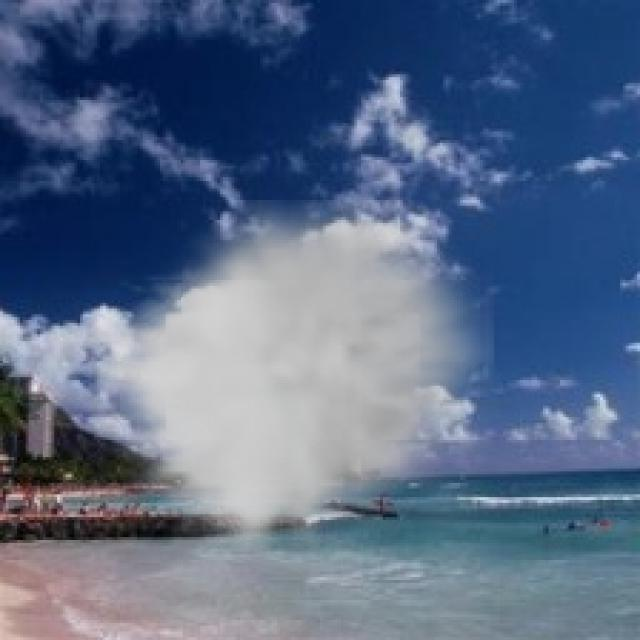smoke: (89, 200, 494, 551)
